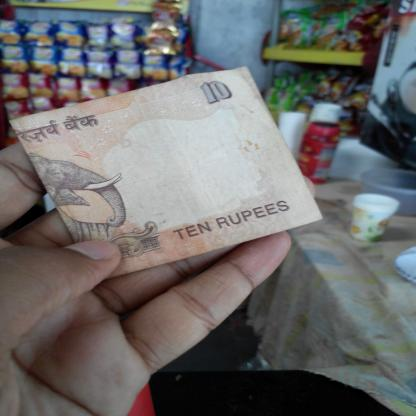Old10Back: (7, 67, 324, 278)
